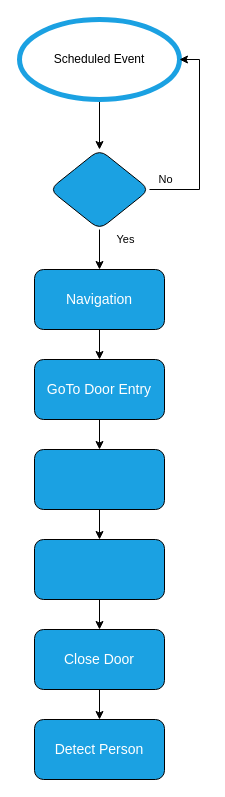
The diagram is 225 pixels wide and 797 high, and some of its shapes have lost their labels. The shapes that lost their labels are listed below. From the top down, each one's centre as x and y in pixels, then its label:
point 99,189: Find Person
point 99,479: Open Door
point 99,569: GoTo Door Exit
